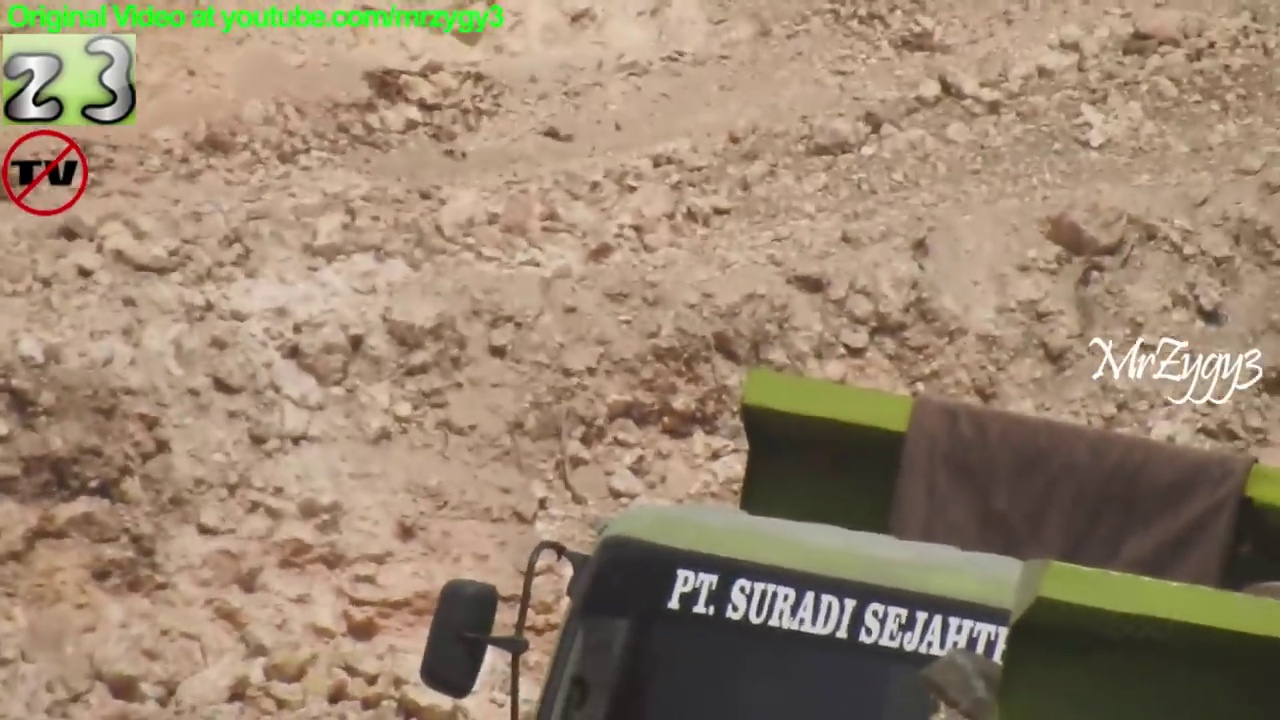truck: (415, 362, 1280, 720)
